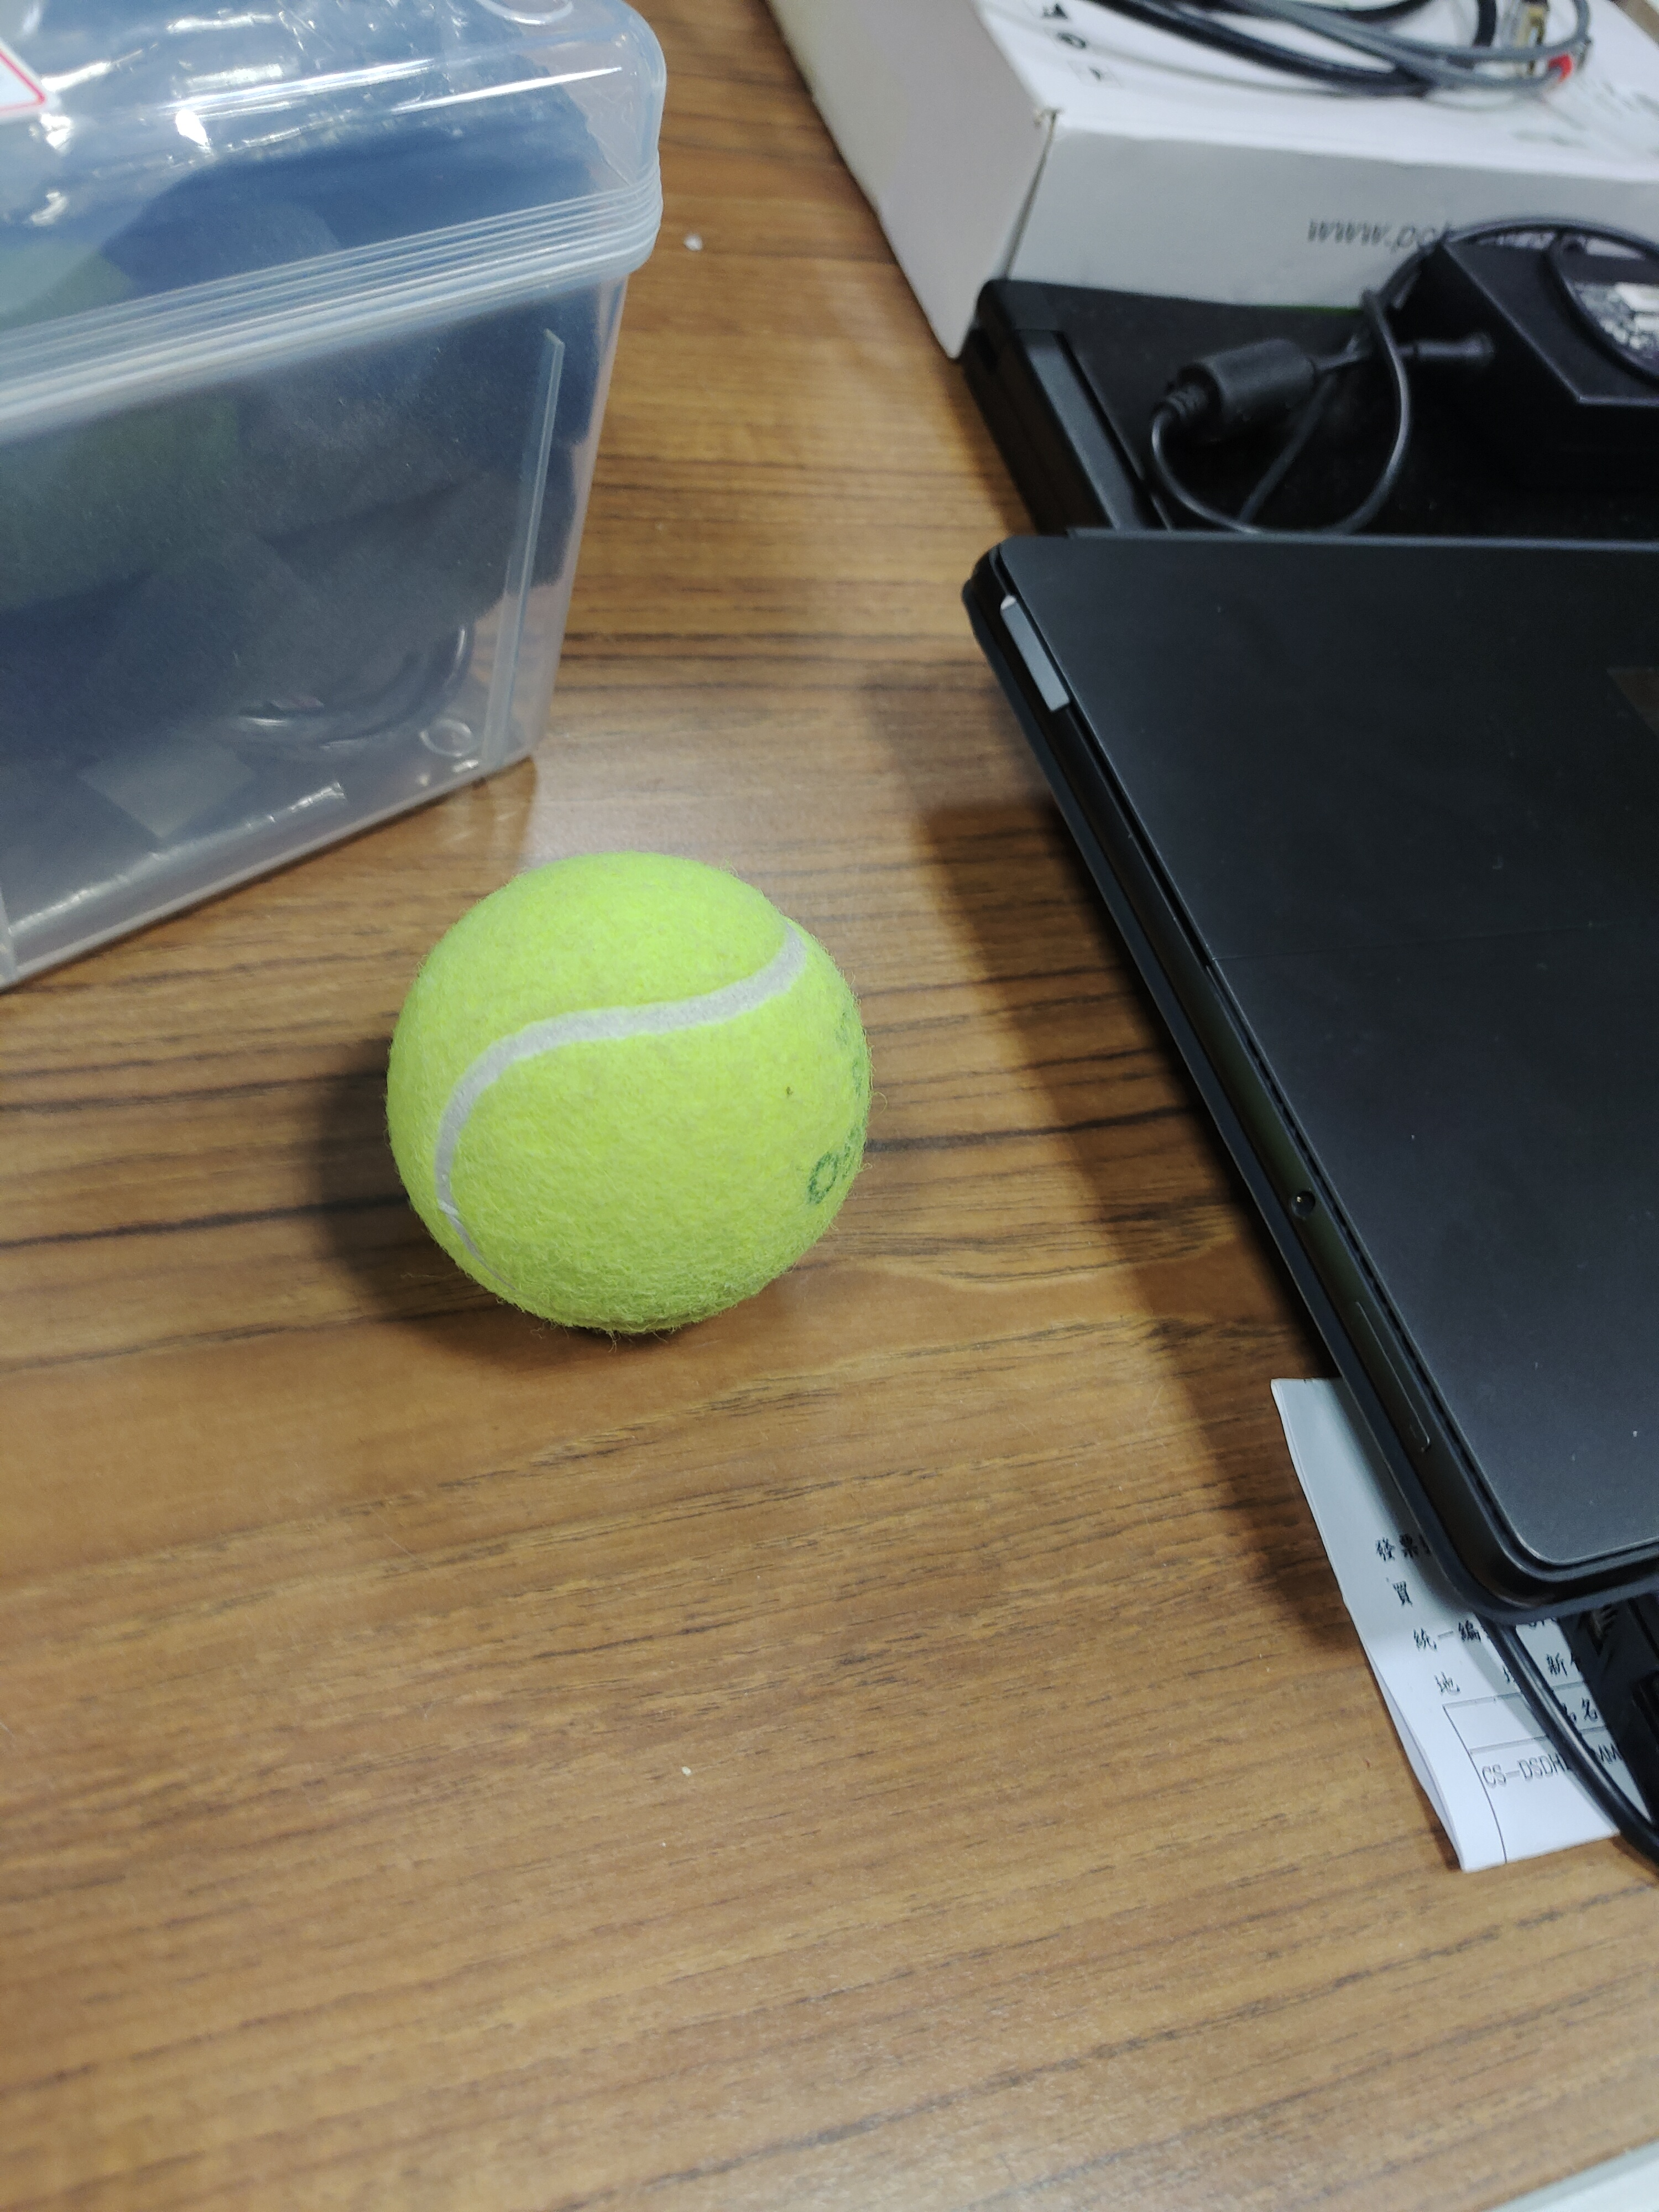tennis: (368, 827, 894, 1359)
